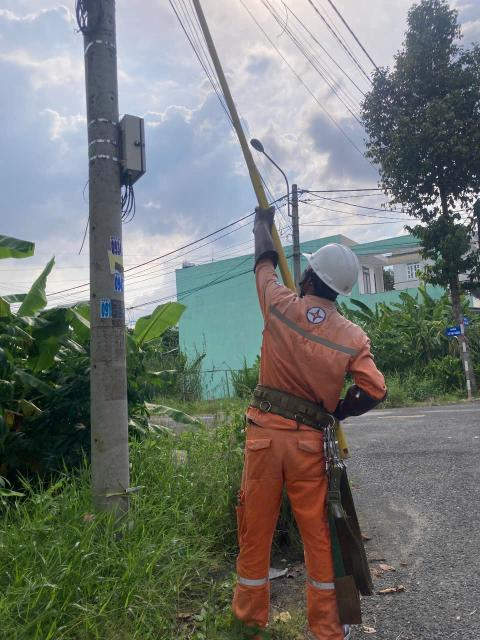gloves: (242, 198, 287, 269), (321, 386, 387, 425)
harness: (233, 368, 350, 440)
helmet: (291, 237, 367, 297)
